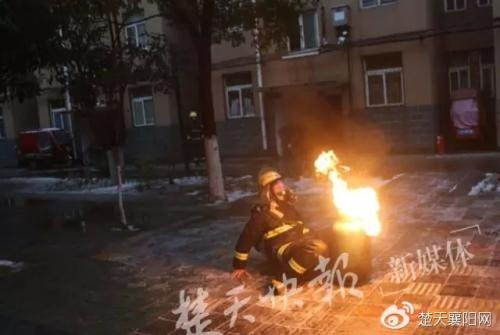fire: (312, 149, 382, 232)
